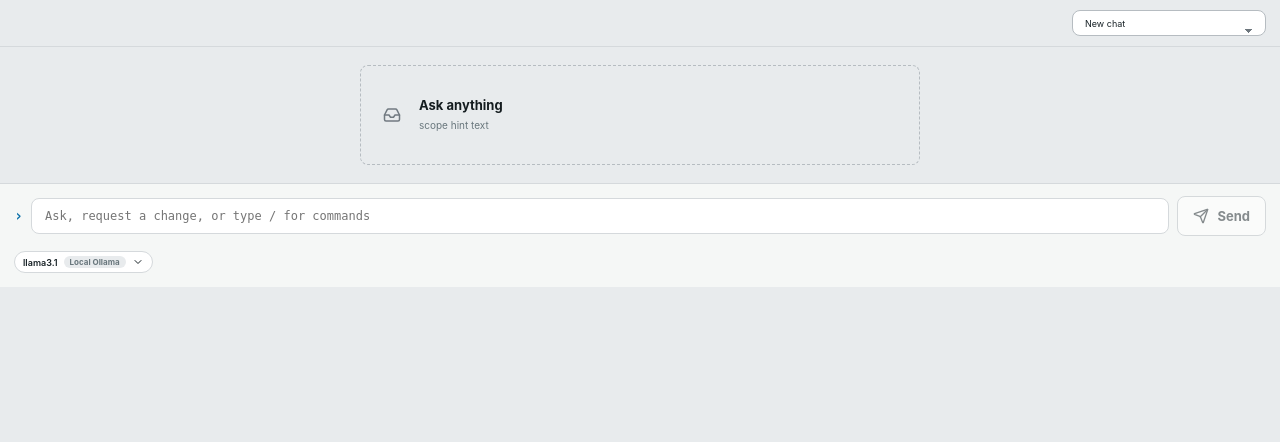
Test: shows the mode the server actually has when a chat is reopened
Select "llama3.1 · 8/24/2026, 12:00:00 AM" in the dropdown named "Conversation" at (1169, 23), box [1072,10,1266,36]
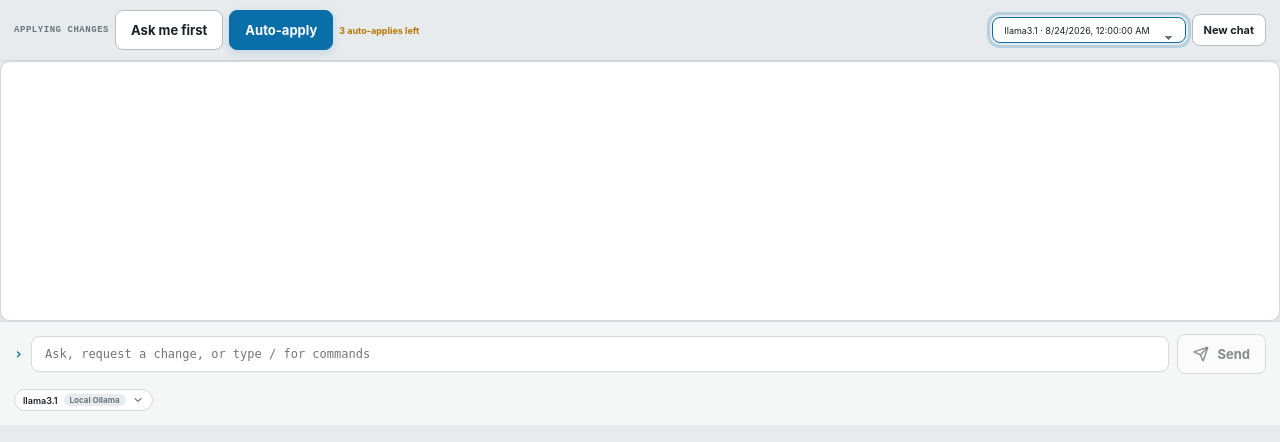
Check: the text "3 auto-applies left" is shown, box [339,24,419,36]
